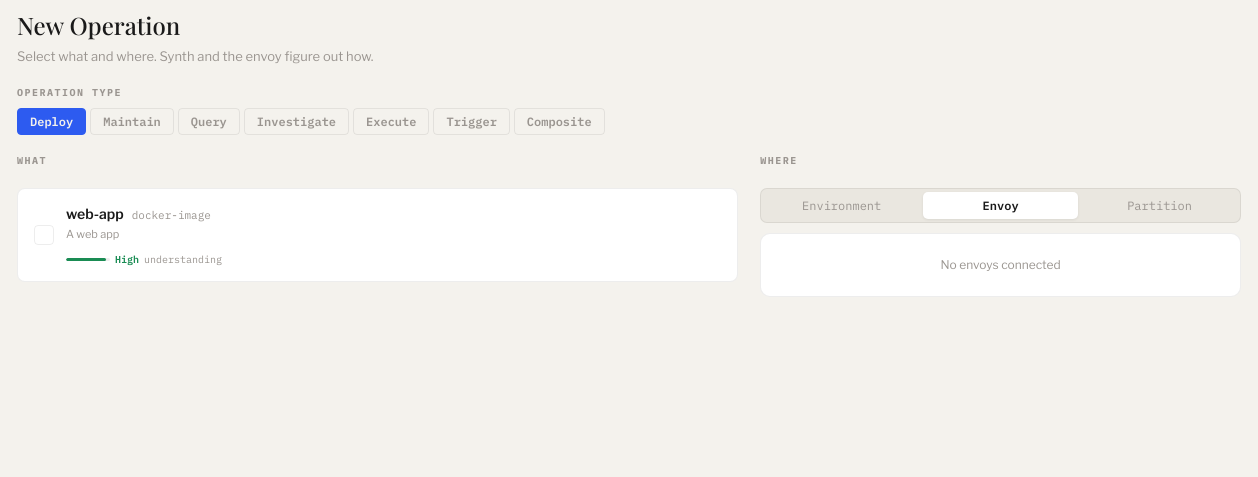
OperationAuthoringPanel › composite type › child can be removed
Click the button "composite".
click(559, 121)  # box x1=514 y1=108 x2=605 y2=134
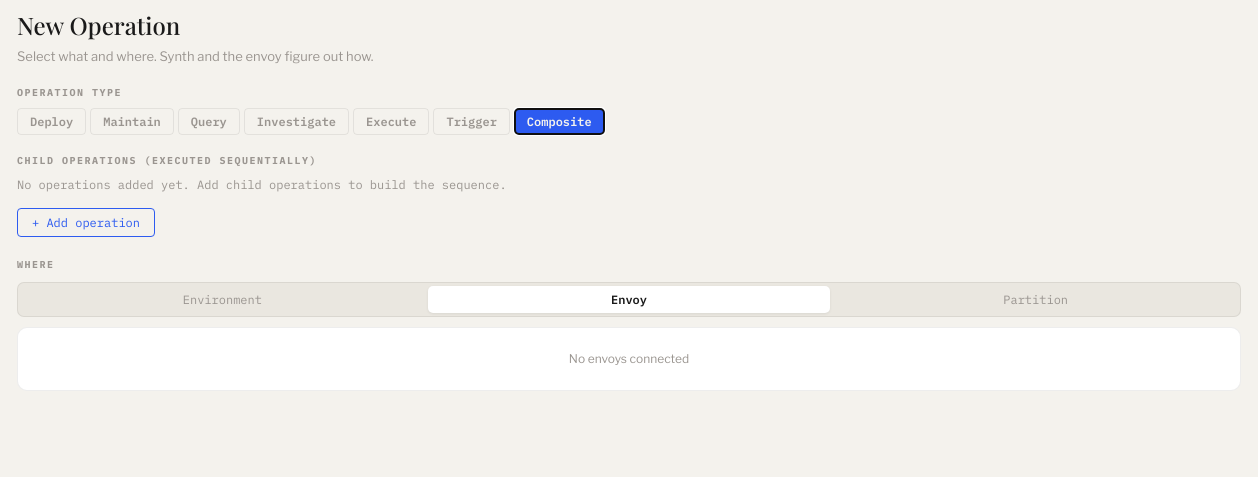
Click the button "+ Add operation".
click(86, 222)  # box x1=17 y1=208 x2=155 y2=236
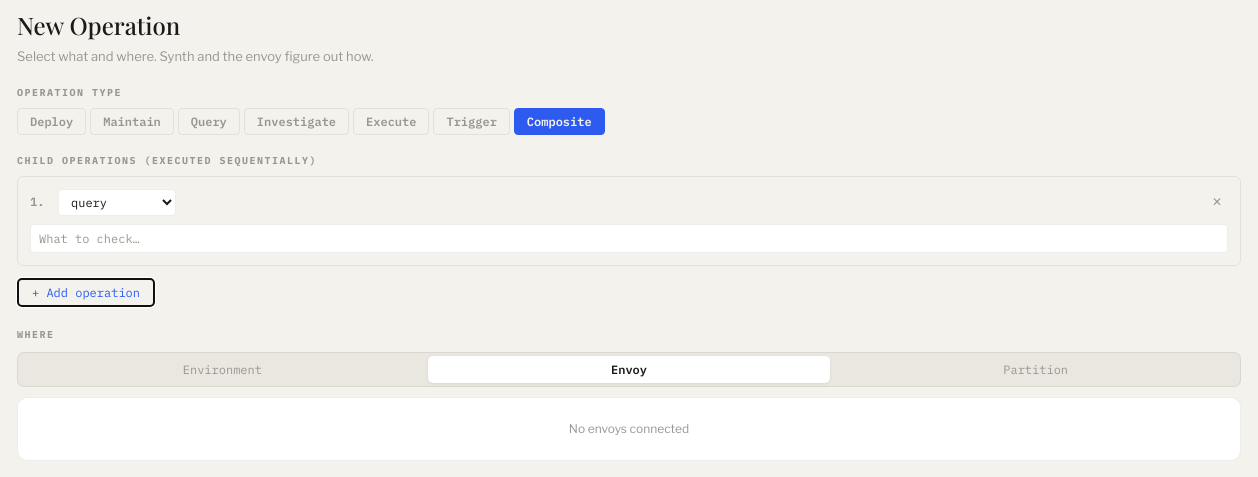
Now the text "1." is shown, box x1=30 y1=194 x2=44 y2=209
Click the button "✕".
click(1217, 202)  # box x1=1206 y1=193 x2=1228 y2=211
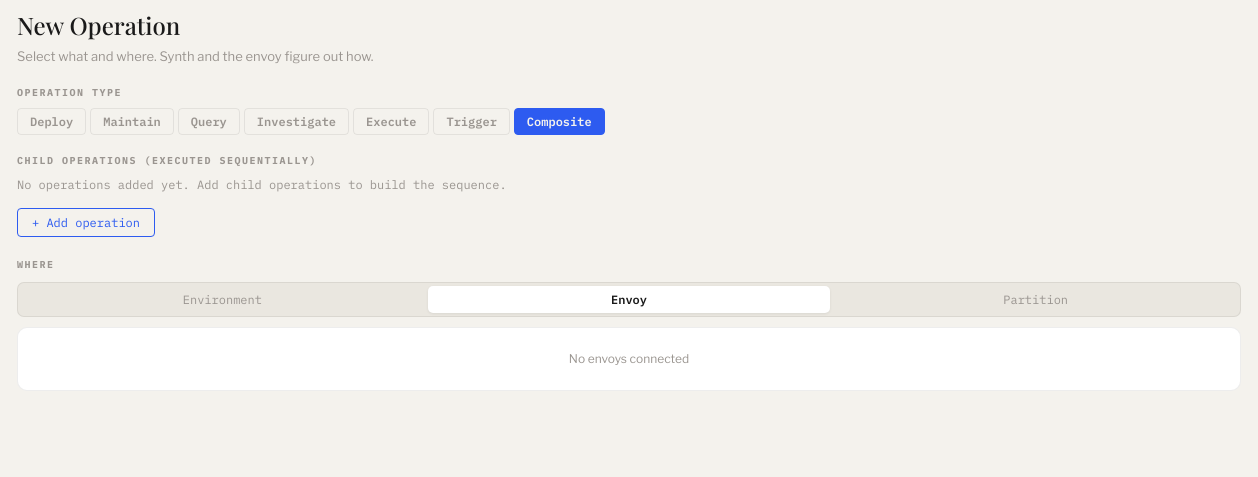
Now the text "1." is gone
